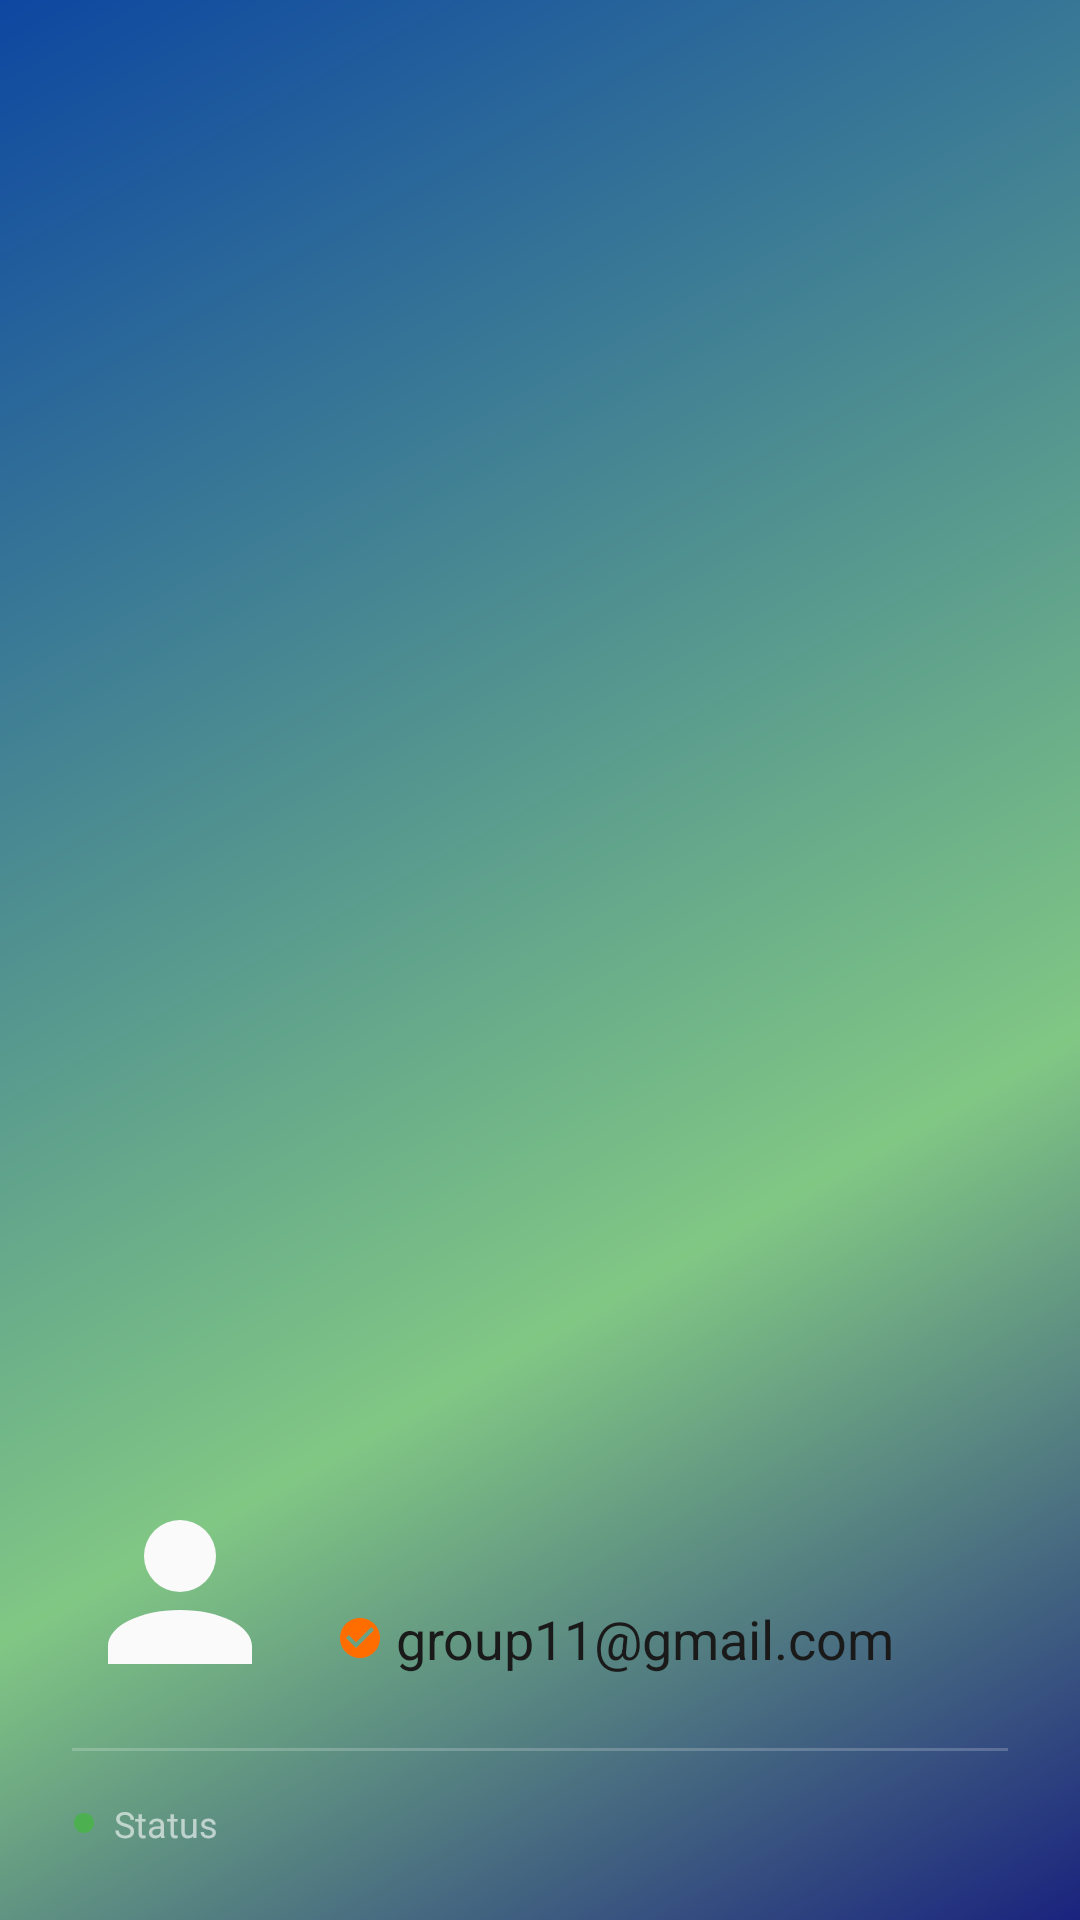

Icon click points for this 1080px×1920px phone screenshot, format [x,y]:
user: [198,1610]
